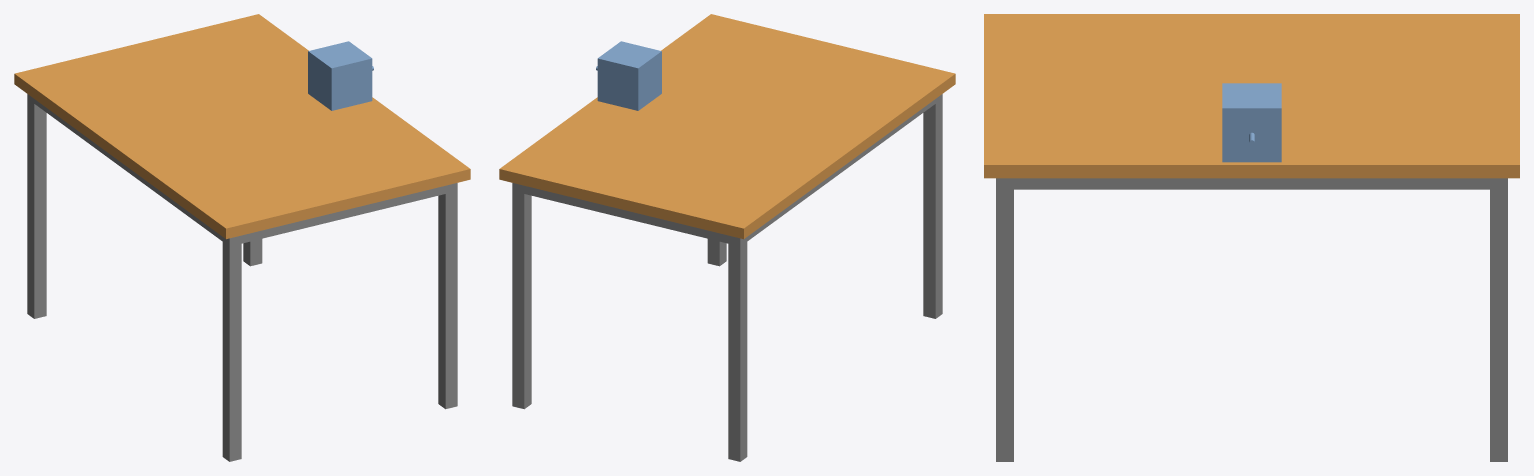
The model's file is Axe_Table.dae.
3 renders of one model, left to right at view 1: azimuth 30°, elevation 25°; view 2: azimuth 150°, elevation 25°; view 3: azimuth 270°, elevation 25°, orthographic. The views are drawn at different scales.
Visible parts, largest first — view 1: 66b6882a7040401643bd0059 (×3); view 2: 66b6882a7040401643bd0059 (×3); view 3: 66b6882a7040401643bd0059 (×3).
Part boxes in pixels (x1=…): 66b6882a7040401643bd0059 (×3): x1=14, y1=14, x2=470, y2=461; 66b6882a7040401643bd0059 (×3): x1=499, y1=14, x2=955, y2=461; 66b6882a7040401643bd0059 (×3): x1=984, y1=14, x2=1519, y2=461.
Bounding box in the file's own units: 0.62 × 0.9 × 0.66.
